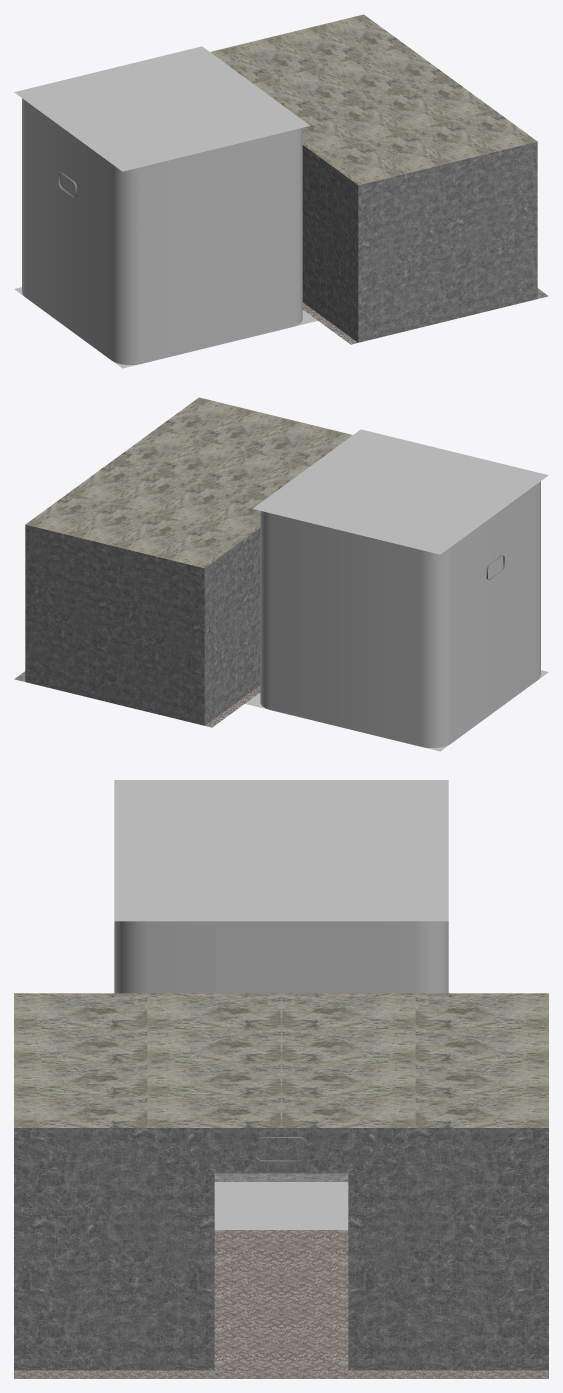
The model's file is SCPSL096Room.fbx.
The picture shows the model from 3 angles, top to bottom: view 1: azimuth 30°, elevation 25°; view 2: azimuth 150°, elevation 25°; view 3: azimuth 270°, elevation 25°; orthographic projection. The views are drawn at different scales.
Visible parts, largest first — view 1: Cube; view 2: Cube; view 3: Cube.
Boxes of the visible parts, x1,y1,x2,y2 form: Cube: [14, 14, 548, 368]; Cube: [14, 397, 548, 751]; Cube: [14, 780, 548, 1378].
Size of the model in its own units: 10.51 by 5 by 8.
